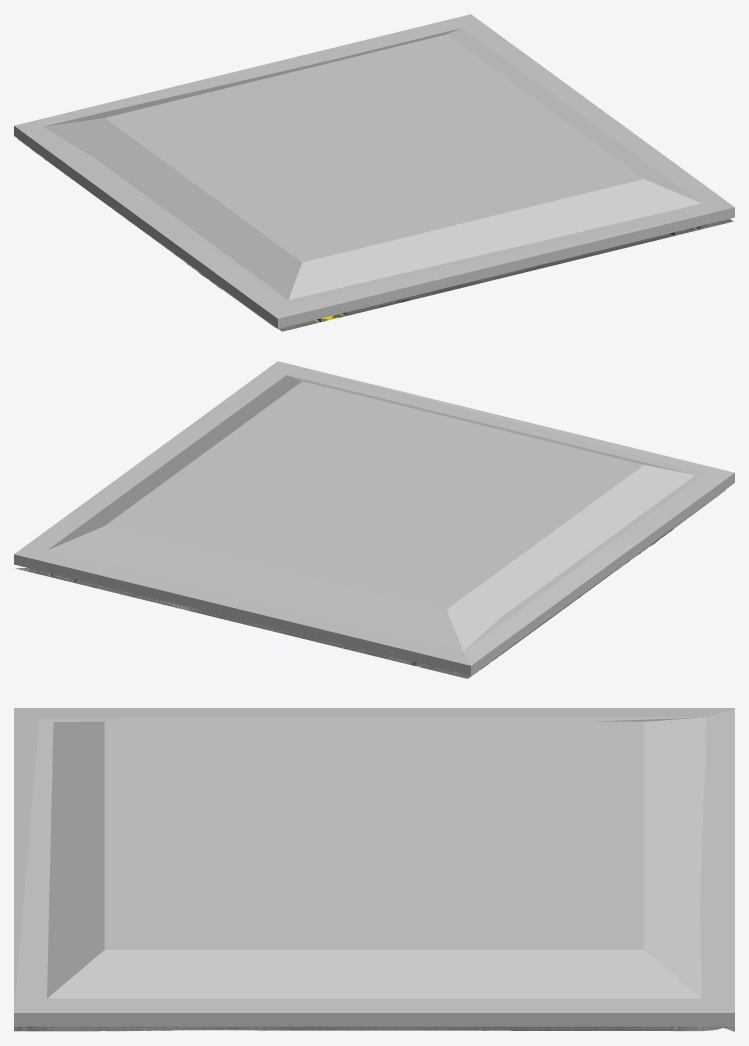
The model's file is hemostatic.fbx.
3 views of the same model, one above another, from view 1: azimuth 30°, elevation 25°; view 2: azimuth 150°, elevation 25°; view 3: azimuth 270°, elevation 25° (orthographic). The views are drawn at different scales.
Visible parts, largest first — view 1: Plane.002, Plane.001, Plane.003; view 2: Plane.002, Plane.001, Plane.003; view 3: Plane.001, Plane.002.
Part boxes in pixels (x1,y1,x2,y2): Plane.002: (14, 14, 734, 328); Plane.001: (14, 14, 734, 331); Plane.003: (19, 140, 732, 330); Plane.002: (14, 361, 734, 675); Plane.001: (14, 467, 734, 678); Plane.003: (20, 490, 725, 678); Plane.001: (14, 708, 734, 1031); Plane.002: (14, 708, 734, 1026).
Size of the model in its own units: 500 by 52.33 by 500.
